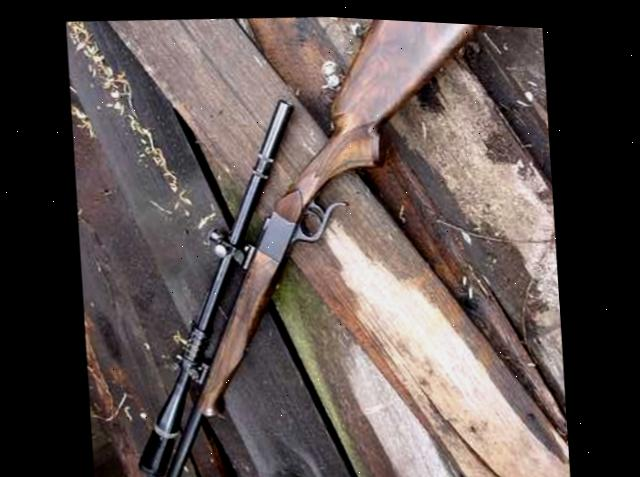rifle: (74, 3, 574, 477)
